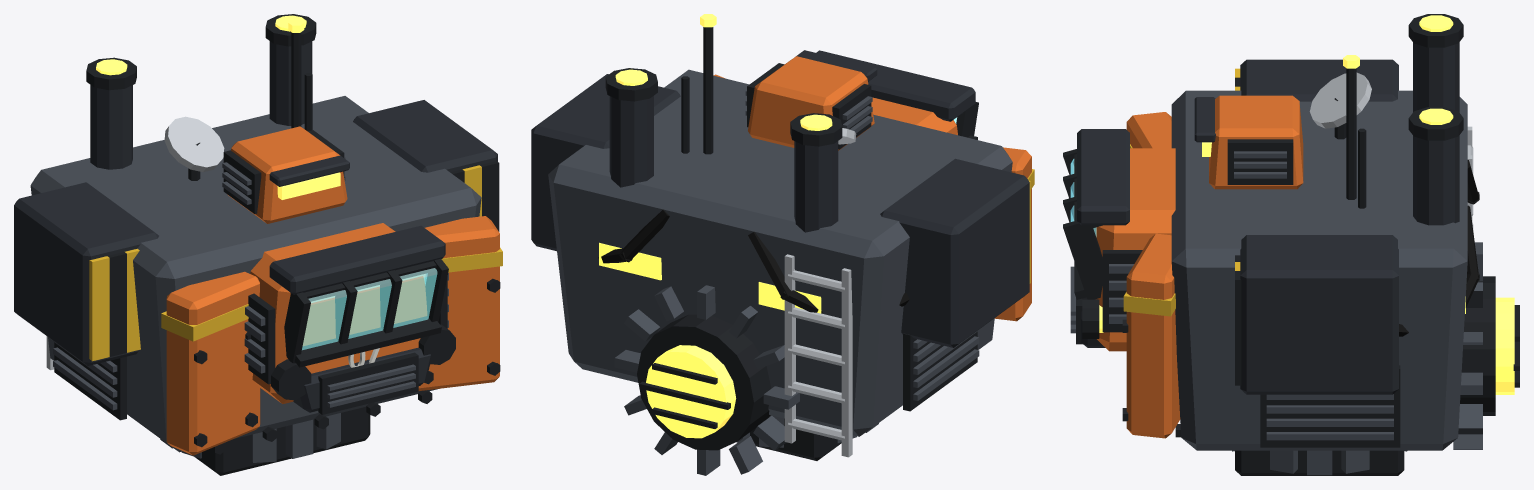
The model's file is torso_mk1.glb.
3 renders of one model, left to right at view 1: azimuth 30°, elevation 25°; view 2: azimuth 150°, elevation 25°; view 3: azimuth 270°, elevation 25°, orthographic. The views are drawn at different scales.
Visible parts, largest first — view 1: core, shoulder_block_R, armor_chest_R, canopy_frame, armor_chest_L, cockpit, canopy_brow, shoulder_block_L, canopy, sensor_head, exhaust_R, shoulder_stripe_R_y (+26 smaller); view 2: core, shoulder_block_R, reactor_housing, shoulder_block_L, reactor_fins, sensor_head, weak_point_reactor, ladder_rails, exhaust_L, exhaust_R, canopy_brow, ladder_rungs (+18 smaller); view 3: core, shoulder_block_L, armor_chest_L, sensor_head, cockpit, canopy_brow, shoulder_block_R, side_intake_L, exhaust_L, side_intake_L_frame, canopy_frame, reactor_housing (+23 smaller).
Boxes of the visible parts, x1,y1,x2,y2 form: core: [30, 96, 481, 452]; shoulder_block_R: [14, 182, 158, 365]; armor_chest_R: [166, 271, 260, 455]; canopy_frame: [284, 258, 448, 367]; armor_chest_L: [418, 216, 499, 390]; cockpit: [250, 223, 430, 403]; canopy_brow: [269, 225, 445, 294]; shoulder_block_L: [353, 100, 497, 172]; canopy: [302, 268, 437, 349]; sensor_head: [227, 126, 347, 223]; exhaust_R: [90, 85, 132, 169]; shoulder_stripe_R_y: [89, 248, 140, 361]; core: [548, 69, 1012, 436]; shoulder_block_R: [880, 158, 1029, 347]; reactor_housing: [637, 314, 771, 450]; shoulder_block_L: [531, 74, 680, 251]; reactor_fins: [614, 285, 799, 475]; sensor_head: [748, 56, 874, 150]; weak_point_reactor: [646, 345, 736, 438]; ladder_rails: [784, 254, 852, 457]; exhaust_L: [609, 96, 653, 187]; exhaust_R: [794, 141, 838, 232]; canopy_brow: [816, 50, 975, 121]; ladder_rungs: [788, 270, 844, 440]; core: [1171, 90, 1467, 450]; shoulder_block_L: [1240, 235, 1398, 394]; armor_chest_L: [1126, 233, 1180, 438]; sensor_head: [1209, 95, 1303, 189]; cockpit: [1096, 148, 1175, 351]; canopy_brow: [1077, 129, 1129, 225]; shoulder_block_R: [1240, 59, 1398, 101]; side_intake_L: [1266, 394, 1393, 440]; exhaust_L: [1413, 135, 1459, 225]; side_intake_L_frame: [1260, 365, 1400, 447]; canopy_frame: [1063, 149, 1102, 299]; reactor_housing: [1460, 276, 1495, 415].
Size of what is drawn, in the model's own units: 2.41 by 2.14 by 2.16.
